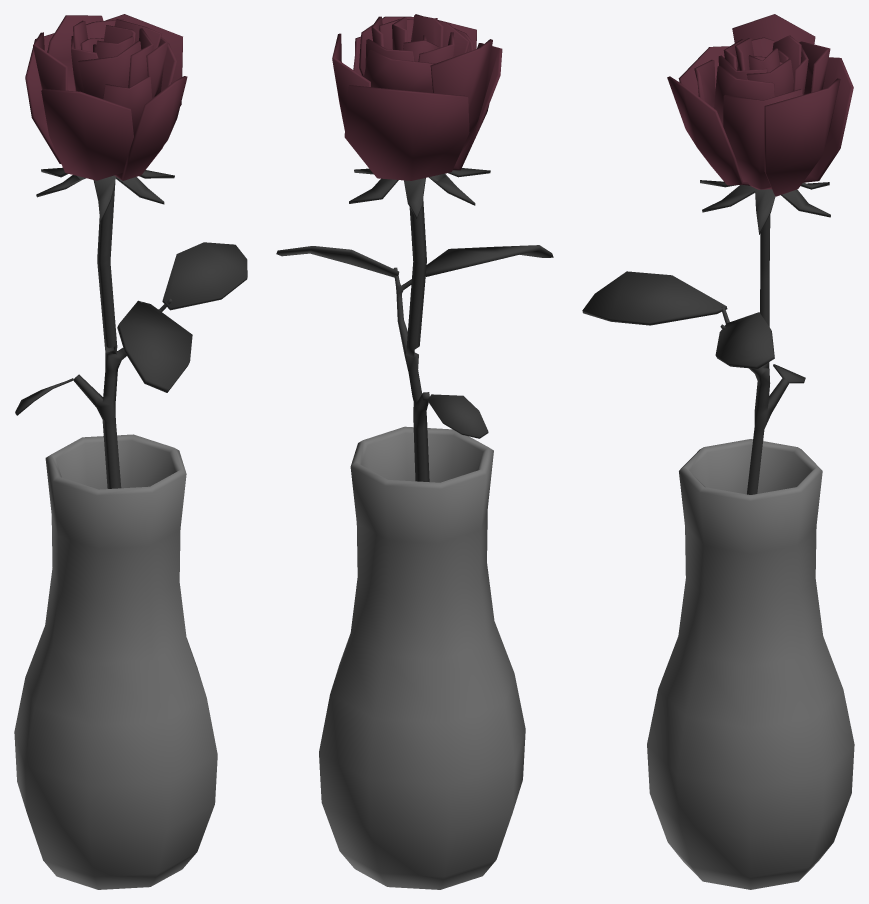
The model's file is rose.glb.
3 views of the same model, side by side, from view 1: azimuth 30°, elevation 25°; view 2: azimuth 150°, elevation 25°; view 3: azimuth 270°, elevation 25° (orthographic). The views are drawn at different scales.
Visible parts, largest first — view 1: rose; view 2: rose; view 3: rose.
Part boxes in pixels (x1,y1,x2,y2): rose: [14, 14, 247, 889]; rose: [276, 14, 553, 889]; rose: [582, 14, 854, 889].
Size of the model in its own units: 0.0809 by 0.2831 by 0.0857.
